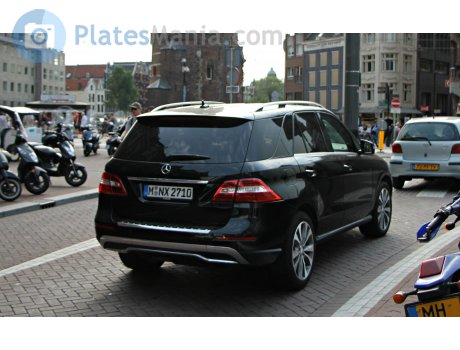License Plates: (142, 185, 191, 193)
